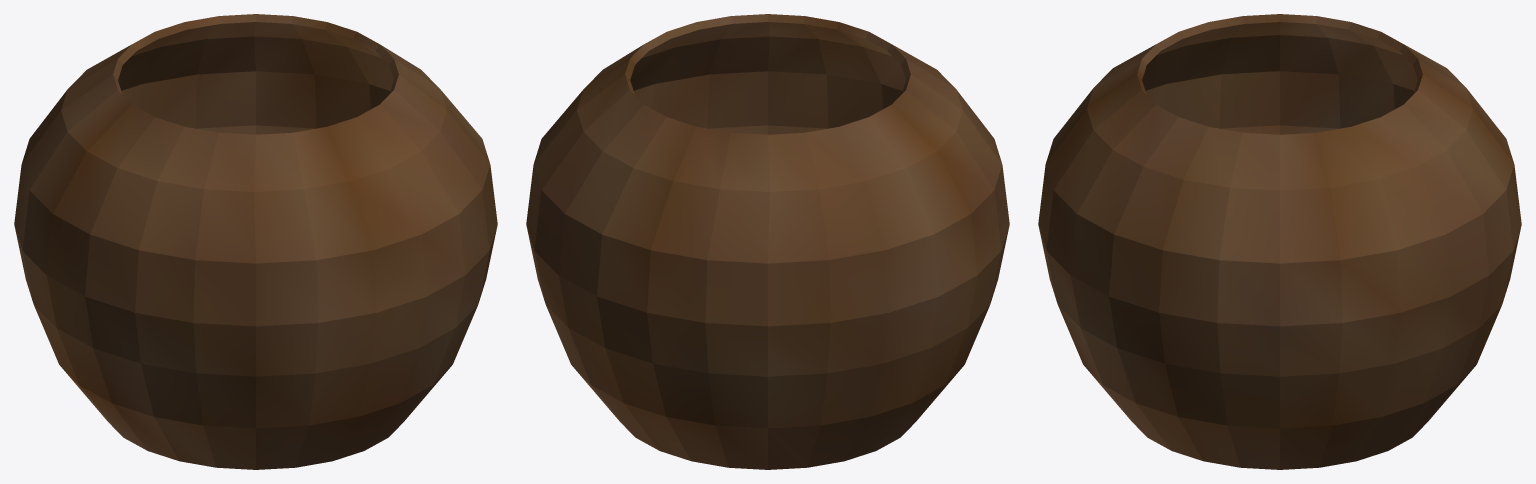
File: straw_jar_bf766922.glb
The picture shows the model from 3 angles, left to right: view 1: azimuth 30°, elevation 25°; view 2: azimuth 150°, elevation 25°; view 3: azimuth 270°, elevation 25°; orthographic projection.
Parts seen in each view (by area): view 1: SM_Straw_Jar01a_M_Straw_Jar01a_0; view 2: SM_Straw_Jar01a_M_Straw_Jar01a_0; view 3: SM_Straw_Jar01a_M_Straw_Jar01a_0.
Part boxes in pixels (left/top/right/bottom): SM_Straw_Jar01a_M_Straw_Jar01a_0: left=14, top=14, right=497, bottom=469; SM_Straw_Jar01a_M_Straw_Jar01a_0: left=526, top=14, right=1009, bottom=469; SM_Straw_Jar01a_M_Straw_Jar01a_0: left=1038, top=14, right=1521, bottom=469.
Size of the model in its own units: 0.591 by 0.4463 by 0.591.
